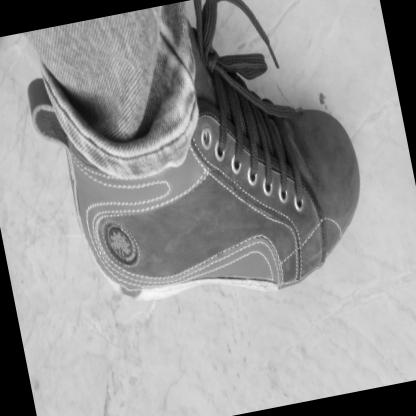ankle: (147, 174, 156, 187)
heel: (84, 227, 94, 240)
pinky: (336, 214, 344, 225)
right_foot: (48, 10, 380, 326)
toe: (313, 112, 321, 125)
